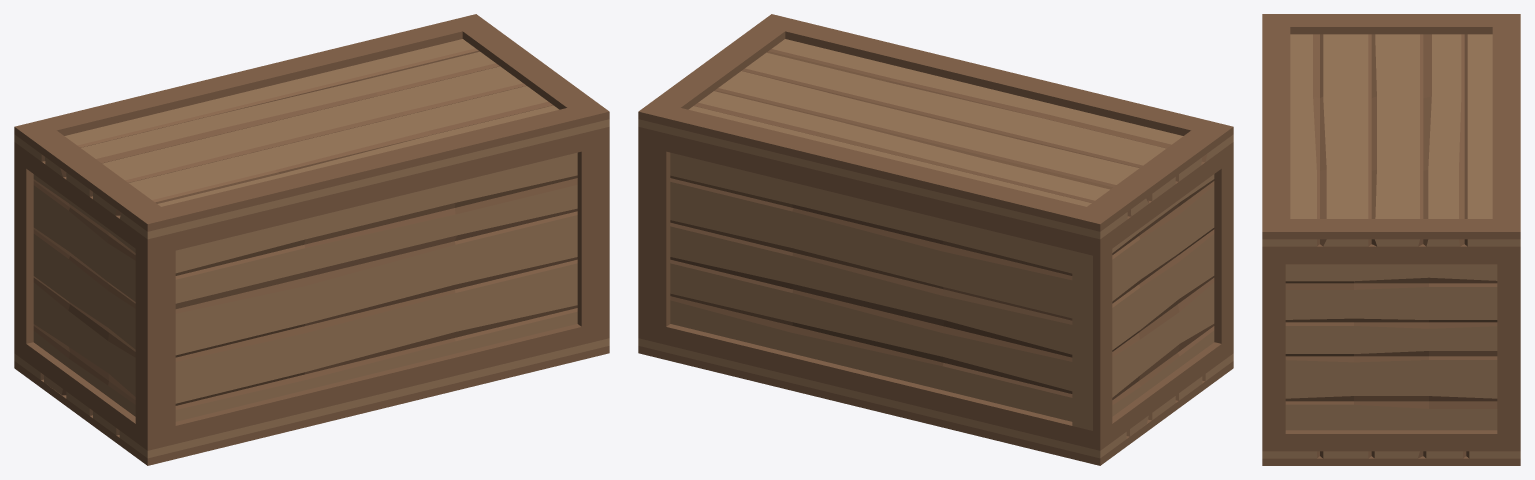
The model's file is SM_Wooden_Box_B.fbx.
The picture shows the model from 3 angles, left to right: view 1: azimuth 30°, elevation 25°; view 2: azimuth 150°, elevation 25°; view 3: azimuth 270°, elevation 25°; orthographic projection. The views are drawn at different scales.
Parts seen in each view (by area): view 1: SM_Wooden_Box_B, SM_Wooden_Box_B_Lid; view 2: SM_Wooden_Box_B, SM_Wooden_Box_B_Lid; view 3: SM_Wooden_Box_B_Lid, SM_Wooden_Box_B.
Part boxes in pixels (x1,y1,x2,y2): SM_Wooden_Box_B: (14,126,609,465); SM_Wooden_Box_B_Lid: (14,14,609,239); SM_Wooden_Box_B: (638,126,1233,465); SM_Wooden_Box_B_Lid: (638,14,1233,239); SM_Wooden_Box_B_Lid: (1262,14,1520,246); SM_Wooden_Box_B: (1262,244,1520,465).
Bounding box in the file's own units: 200 × 100 × 100.
